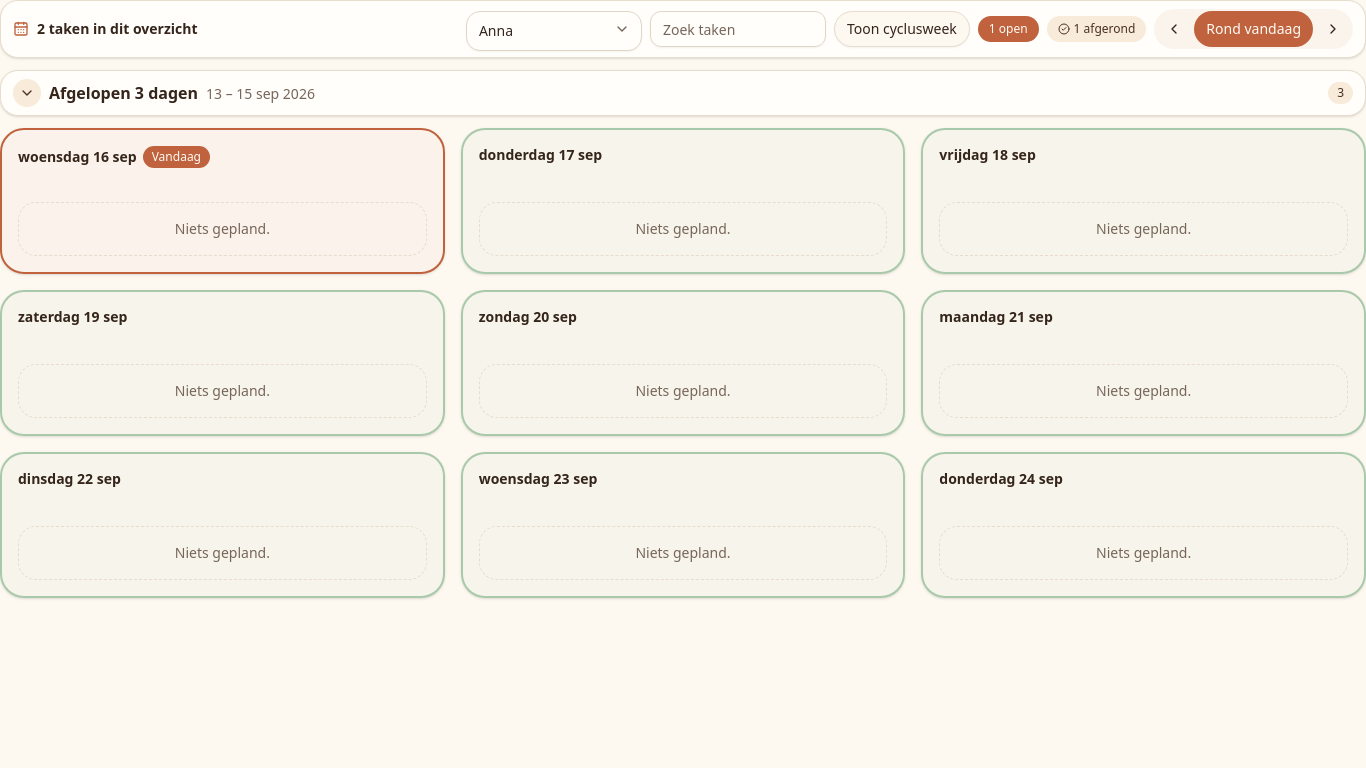
Test case: WeekPage › keeps the overview compact without separate move buttons
The width and height of the screenshot is (1366, 768).
Click the button "Afgelopen 3 dagen 13 – 15 sep 2026 3" at (124, 93), box [0,70,1365,116]
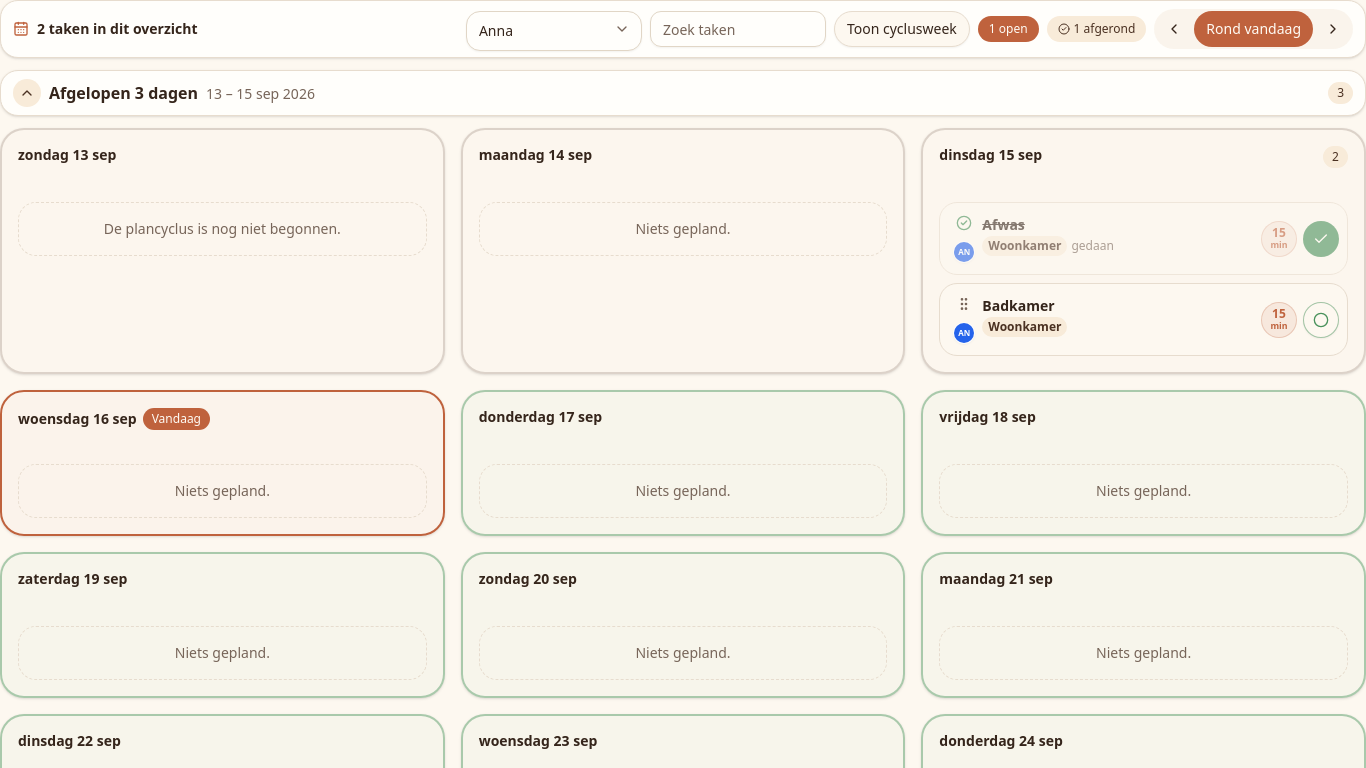
Check: the text "Badkamer" is shown, box [982,296,1055,315]
